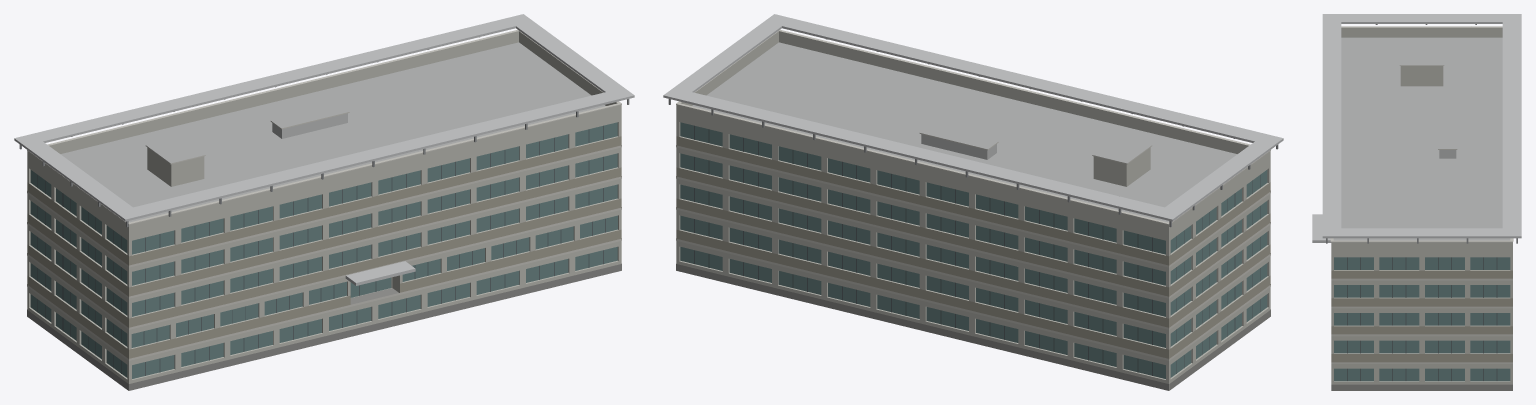
3 views of the same model, side by side, from view 1: azimuth 30°, elevation 25°; view 2: azimuth 150°, elevation 25°; view 3: azimuth 270°, elevation 25° (orthographic). The views are drawn at different scales.
Visible parts, largest first — view 1: socialSciences__glass, socialSciences__roof, socialSciences__wall, socialSciences__wall2, socialSciences__canopyTop, socialSciences__parapet, socialSciences__trim, socialSciences__base, socialSciences__canopy, socialSciences__frame, socialSciences__roofMetal; view 2: socialSciences__glass, socialSciences__wall, socialSciences__roof, socialSciences__wall2, socialSciences__canopyTop, socialSciences__parapet, socialSciences__trim, socialSciences__base, socialSciences__canopy, socialSciences__frame, socialSciences__roofMetal; view 3: socialSciences__roof, socialSciences__canopyTop, socialSciences__glass, socialSciences__wall, socialSciences__wall2, socialSciences__parapet, socialSciences__trim, socialSciences__base, socialSciences__canopy, socialSciences__frame.
Part boxes in pixels (left/top/right/bottom): socialSciences__glass: left=30, top=122, right=617, bottom=378; socialSciences__roof: left=60, top=42, right=605, bottom=222; socialSciences__wall: left=27, top=115, right=621, bottom=390; socialSciences__wall2: left=27, top=136, right=621, bottom=359; socialSciences__canopyTop: left=14, top=14, right=633, bottom=219; socialSciences__parapet: left=27, top=31, right=621, bottom=234; socialSciences__trim: left=27, top=29, right=621, bottom=360; socialSciences__base: left=27, top=264, right=621, bottom=390; socialSciences__canopy: left=14, top=26, right=634, bottom=285; socialSciences__frame: left=37, top=125, right=605, bottom=375; socialSciences__roofMetal: left=272, top=113, right=347, bottom=138; socialSciences__glass: left=680, top=122, right=1267, bottom=378; socialSciences__wall: left=676, top=115, right=1270, bottom=390; socialSciences__roof: left=692, top=42, right=1237, bottom=222; socialSciences__wall2: left=676, top=136, right=1270, bottom=359; socialSciences__canopyTop: left=664, top=14, right=1283, bottom=219; socialSciences__parapet: left=676, top=31, right=1270, bottom=234; socialSciences__trim: left=676, top=29, right=1270, bottom=360; socialSciences__base: left=676, top=264, right=1270, bottom=390; socialSciences__canopy: left=663, top=26, right=1283, bottom=221; socialSciences__frame: left=694, top=125, right=1260, bottom=375; socialSciences__roofMetal: left=921, top=134, right=996, bottom=159; socialSciences__roof: left=1333, top=37, right=1510, bottom=240; socialSciences__canopyTop: left=1322, top=14, right=1521, bottom=236; socialSciences__glass: left=1334, top=257, right=1510, bottom=381; socialSciences__wall: left=1331, top=66, right=1512, bottom=384; socialSciences__wall2: left=1331, top=270, right=1512, bottom=362; socialSciences__parapet: left=1331, top=27, right=1512, bottom=251; socialSciences__trim: left=1330, top=26, right=1513, bottom=363; socialSciences__base: left=1331, top=384, right=1512, bottom=390; socialSciences__canopy: left=1312, top=22, right=1521, bottom=242; socialSciences__frame: left=1347, top=257, right=1497, bottom=381.
Bounding box in the file's own units: 61.65 × 20.8 × 24.51.
